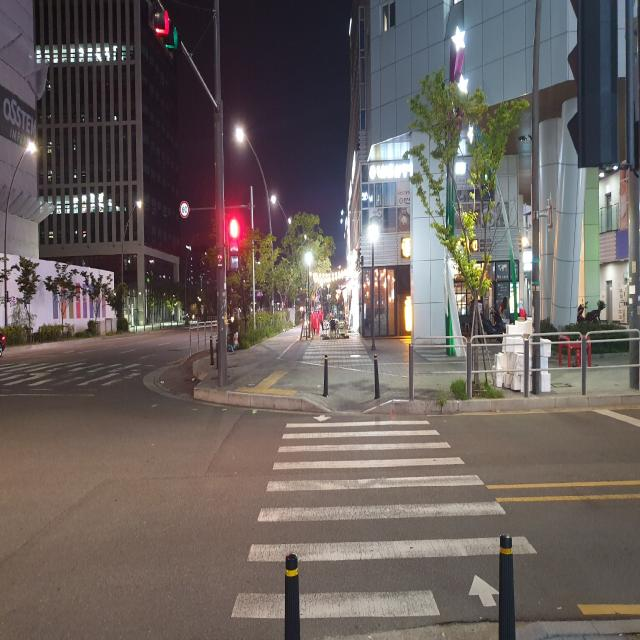빨간불: (226, 216, 242, 276)
횡단보도: (227, 411, 538, 621), (0, 352, 157, 398)
